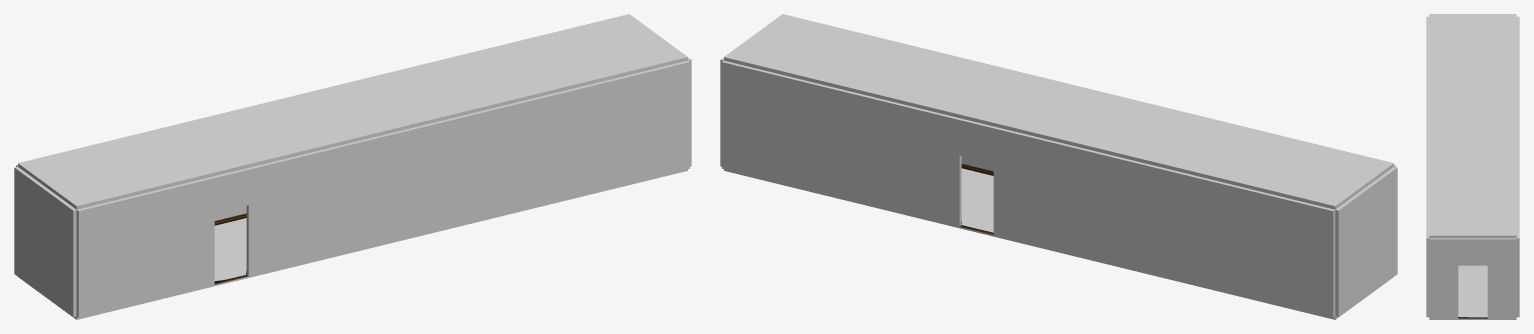
File: Corridor_01.glb
3 views of the same model, side by side, from view 1: azimuth 30°, elevation 25°; view 2: azimuth 150°, elevation 25°; view 3: azimuth 270°, elevation 25° (orthographic). The views are drawn at different scales.
Visible parts, largest first — view 1: Wall_Section_Right_M (×5), Wall_Door_Frame_Right_M, Wall_Section_Left_M, Ceiling.001, Ceiling.002, Ceiling.003, Ceiling.004, Ceiling.005, Ceiling.006, Floor.002, Floor.003; view 2: Wall_Section_Left_M (×6), Wall_Door_Frame_Left_M, Ceiling.001, Ceiling.002, Ceiling.003, Ceiling.004, Ceiling.005, Ceiling.006, Floor.004, Floor.005; view 3: Wall_Door_Frame_Left_M (×2), Ceiling.006, Ceiling.004, Ceiling.005, Ceiling.001, Ceiling.002, Ceiling.003, Floor.006, Wall_Section_Right_M (×5), Wall_Section_Left_M (×5), Floor.005, Wall_Door_Frame_Right_M.
Part boxes in pixels (x1=…): Wall_Section_Right_M (×5): x1=76, y1=60, x2=689, y2=317; Wall_Door_Frame_Right_M: x1=179, y1=160, x2=282, y2=292; Wall_Section_Left_M: x1=14, y1=166, x2=76, y2=316; Ceiling.001: x1=18, y1=138, x2=178, y2=209; Ceiling.002: x1=120, y1=113, x2=280, y2=184; Ceiling.003: x1=222, y1=88, x2=382, y2=159; Ceiling.004: x1=324, y1=63, x2=484, y2=134; Ceiling.005: x1=426, y1=39, x2=586, y2=110; Ceiling.006: x1=528, y1=14, x2=687, y2=85; Floor.002: x1=178, y1=224, x2=280, y2=294; Floor.003: x1=222, y1=218, x2=382, y2=269; Wall_Section_Left_M (×6): x1=722, y1=60, x2=1397, y2=317; Wall_Door_Frame_Left_M: x1=925, y1=110, x2=1029, y2=243; Ceiling.001: x1=1233, y1=138, x2=1393, y2=209; Ceiling.002: x1=1131, y1=113, x2=1291, y2=184; Ceiling.003: x1=1029, y1=88, x2=1189, y2=159; Ceiling.004: x1=927, y1=63, x2=1087, y2=134; Ceiling.005: x1=825, y1=39, x2=985, y2=110; Ceiling.006: x1=724, y1=14, x2=883, y2=85; Floor.004: x1=927, y1=174, x2=1029, y2=245; Floor.005: x1=825, y1=168, x2=985, y2=220; Wall_Door_Frame_Left_M (×2): x1=1429, y1=127, x2=1519, y2=318; Ceiling.006: x1=1429, y1=198, x2=1516, y2=238; Ceiling.004: x1=1429, y1=124, x2=1516, y2=161; Ceiling.005: x1=1429, y1=161, x2=1516, y2=198; Ceiling.001: x1=1429, y1=14, x2=1516, y2=50; Ceiling.002: x1=1429, y1=51, x2=1516, y2=87; Ceiling.003: x1=1429, y1=88, x2=1516, y2=124; Floor.006: x1=1429, y1=280, x2=1516, y2=319; Wall_Section_Right_M (×5): x1=1426, y1=16, x2=1429, y2=317; Wall_Section_Left_M (×5): x1=1516, y1=16, x2=1519, y2=317; Floor.005: x1=1458, y1=265, x2=1487, y2=280; Wall_Door_Frame_Right_M: x1=1426, y1=53, x2=1429, y2=90.
Size of the model in its own units: 18.2 by 3.2 by 3.2.
Materials: 4 (4 with a texture image).
